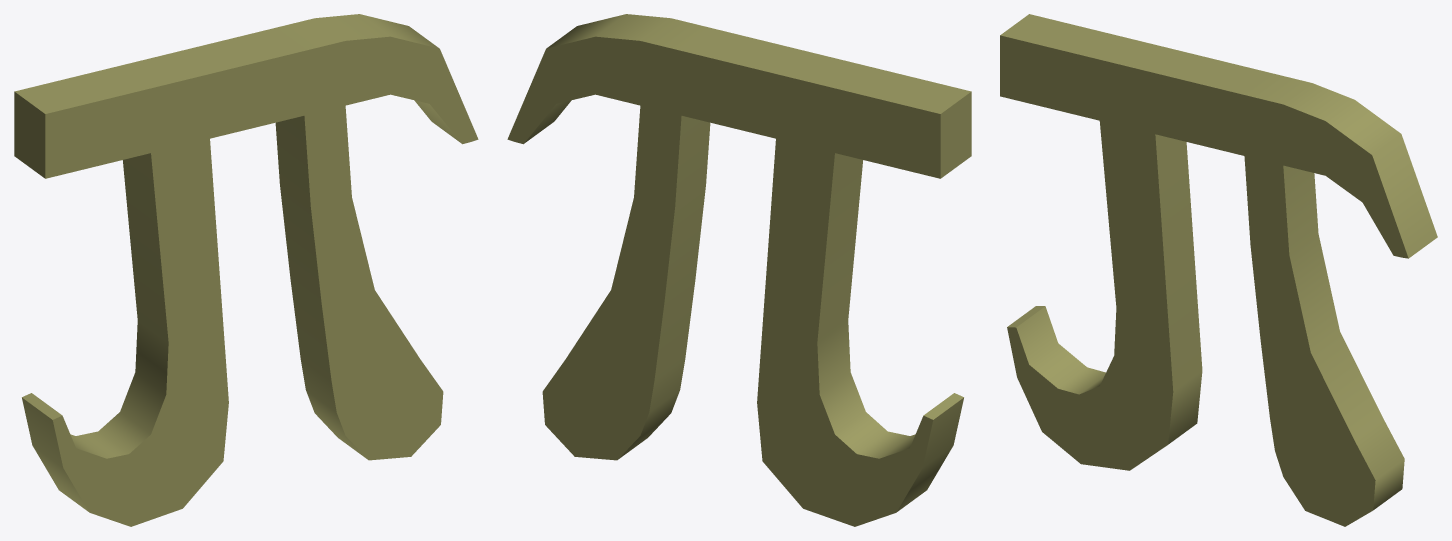
The model's file is Pi sign.fbx.
3 views of the same model, side by side, from view 1: azimuth 30°, elevation 25°; view 2: azimuth 150°, elevation 25°; view 3: azimuth 330°, elevation 25° (orthographic). The views are drawn at different scales.
Parts seen in each view (by area): view 1: polySurface3; view 2: polySurface3; view 3: polySurface3.
Boxes of the visible parts, box(x1,y1,x2,y2) form: polySurface3: box(14, 14, 478, 526); polySurface3: box(507, 14, 971, 526); polySurface3: box(1000, 14, 1437, 526).
Size of the model in its own units: 4.36 by 4.17 by 0.5392.
